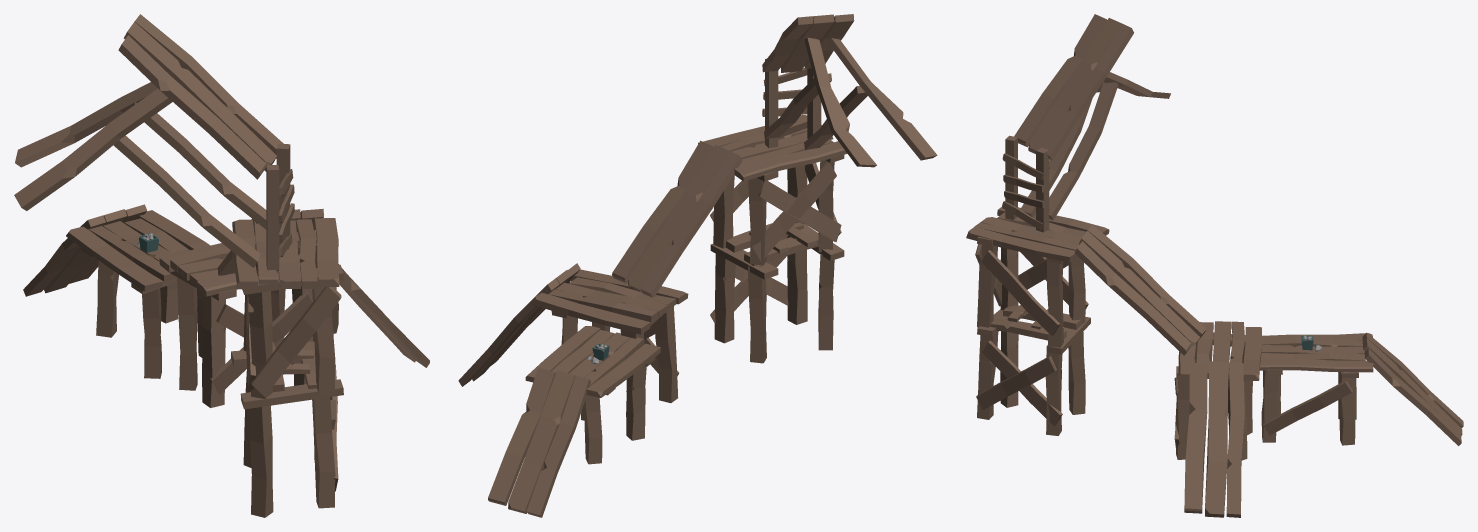
Rendered from Environment1.fbx.
3 views of the same model, side by side, from view 1: azimuth 30°, elevation 25°; view 2: azimuth 150°, elevation 25°; view 3: azimuth 270°, elevation 25° (orthographic). The views are drawn at different scales.
Visible parts, largest first — view 1: Cube.005; view 2: Cube.005; view 3: Cube.005.
Boxes of the visible parts, x1,y1,x2,y2 form: Cube.005: (14,14,429,517); Cube.005: (458,14,937,517); Cube.005: (966,14,1463,517).
Size of the model in its own units: 10.72 by 10.07 by 12.42.
